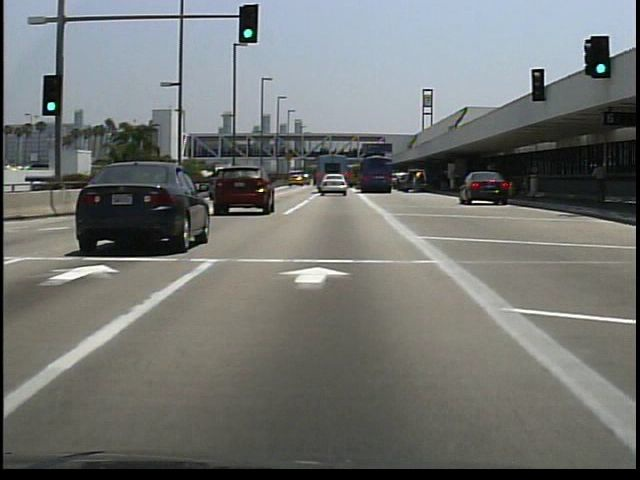person: (587, 158, 608, 209)
